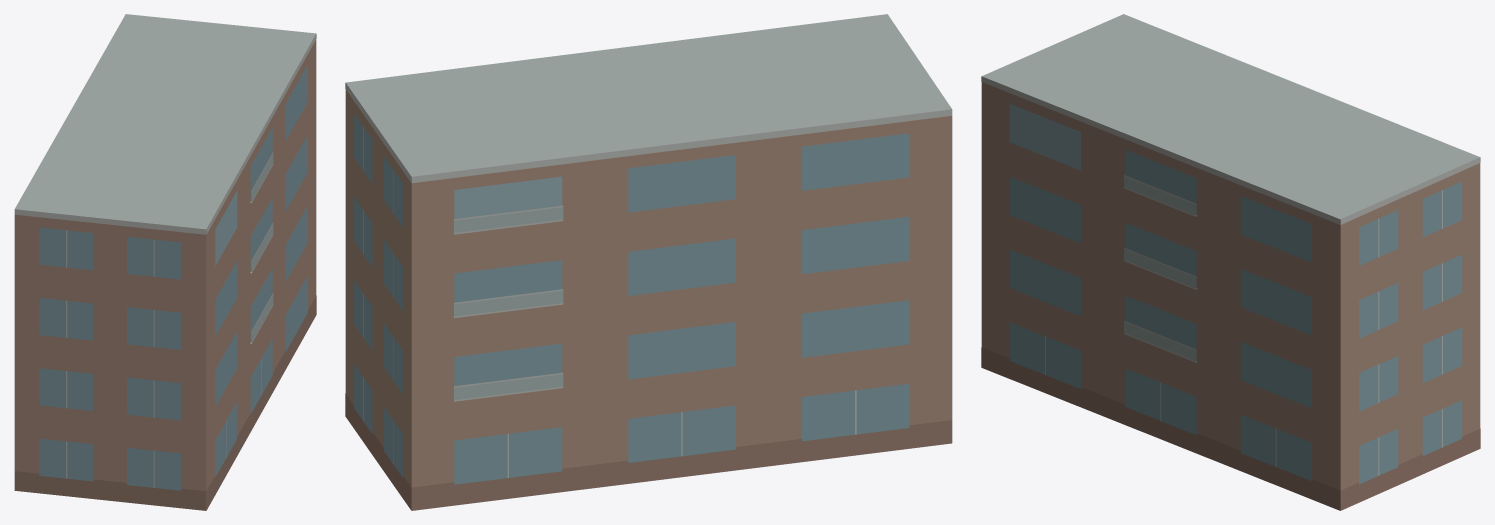
The model's file is survey-upis-32956704.glb.
The picture shows the model from 3 angles, left to right: view 1: azimuth 30°, elevation 25°; view 2: azimuth 150°, elevation 25°; view 3: azimuth 270°, elevation 25°; orthographic projection. The views are drawn at different scales.
Parts seen in each view (by area): view 1: survey-upis-32956704.tmp; view 2: survey-upis-32956704.tmp; view 3: survey-upis-32956704.tmp.
Part boxes in pixels (x1,y1,x2,y2): survey-upis-32956704.tmp: (14,14,316,510); survey-upis-32956704.tmp: (345,14,952,510); survey-upis-32956704.tmp: (981,14,1480,510).
Size of the model in its own units: 19.21 by 12.7 by 19.71.
